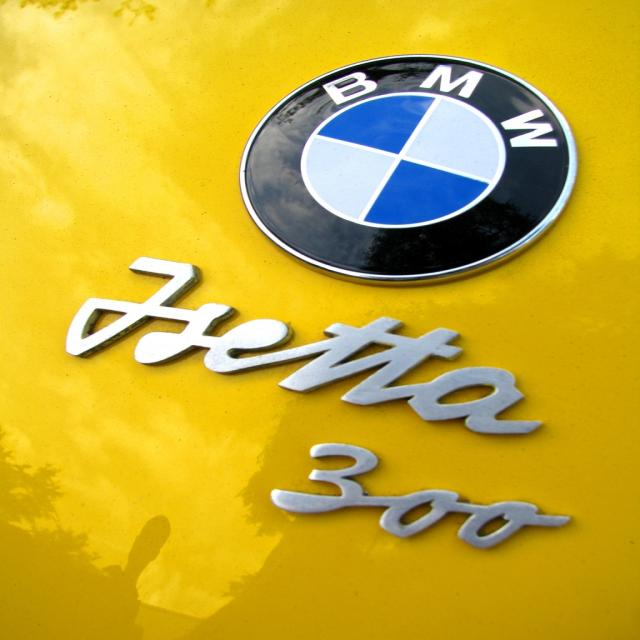bmw: (241, 56, 578, 283)
